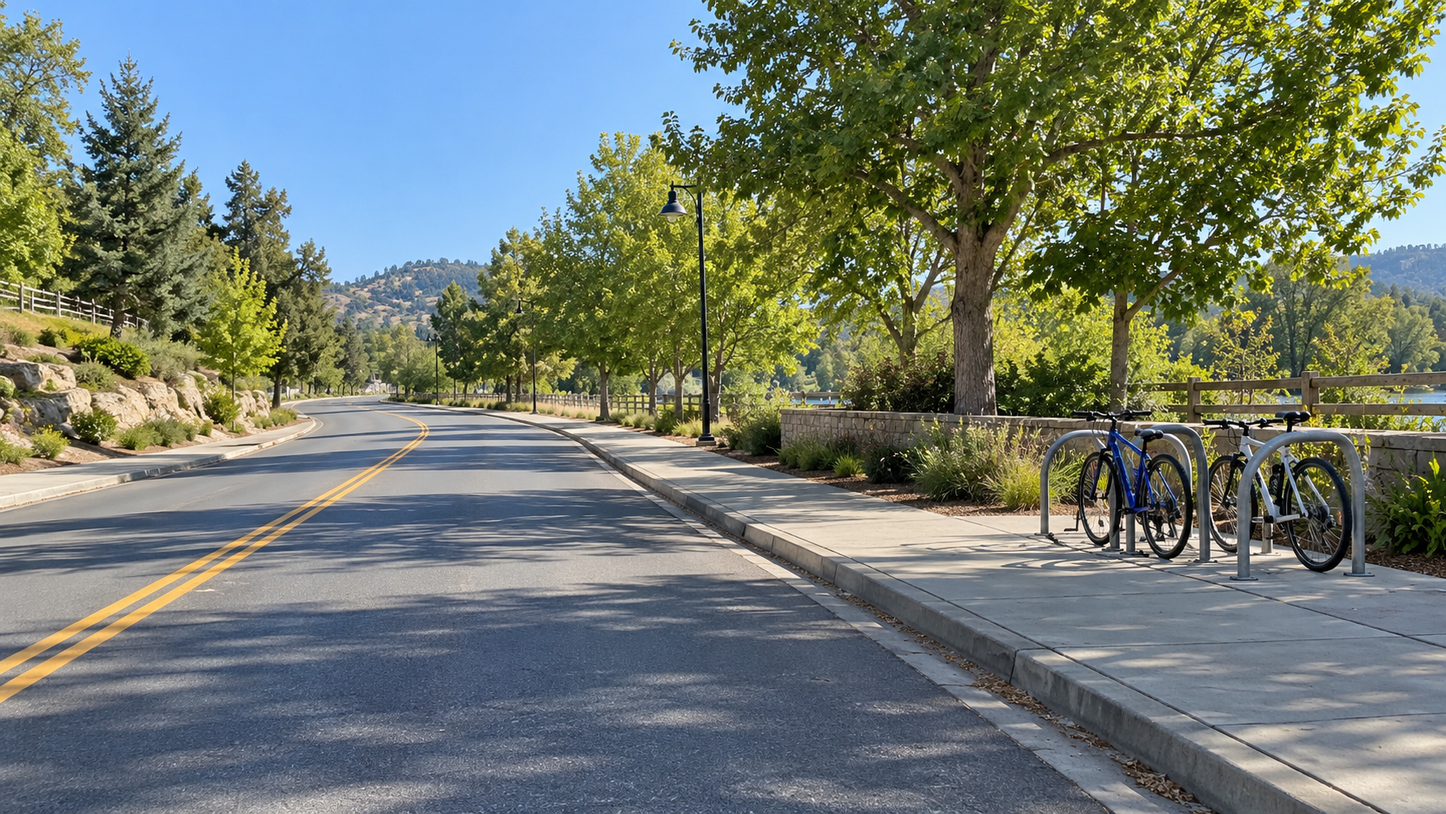bicycle: (1251, 407, 1415, 586), (1040, 411, 1176, 569), (1187, 402, 1306, 558)
person: (783, 318, 851, 525)
